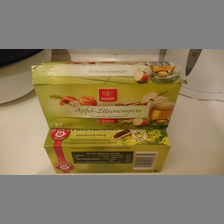tea: (30, 61, 182, 130), (44, 129, 172, 175)
